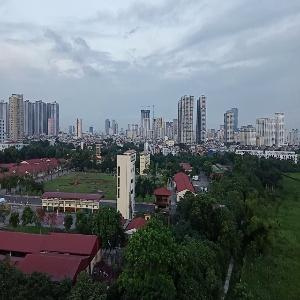drone: (197, 188, 239, 230)
